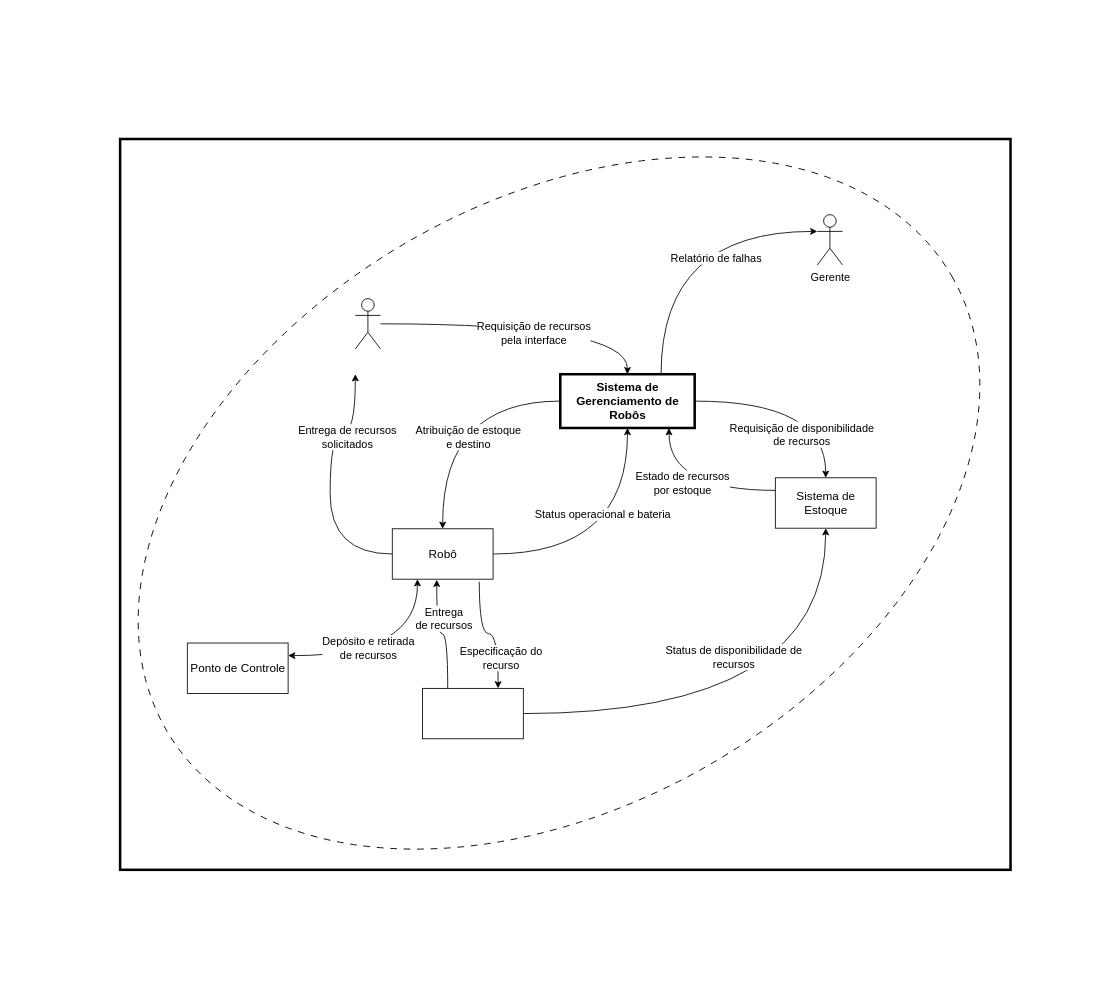
This 1118x1006 diagram has some shape labels left out. The box of each missing label's shape, as (x1, y1, x2, y2) in pixels:
Agente Solicitante: (354, 298, 381, 349)
Estoque Local: (422, 688, 523, 739)
